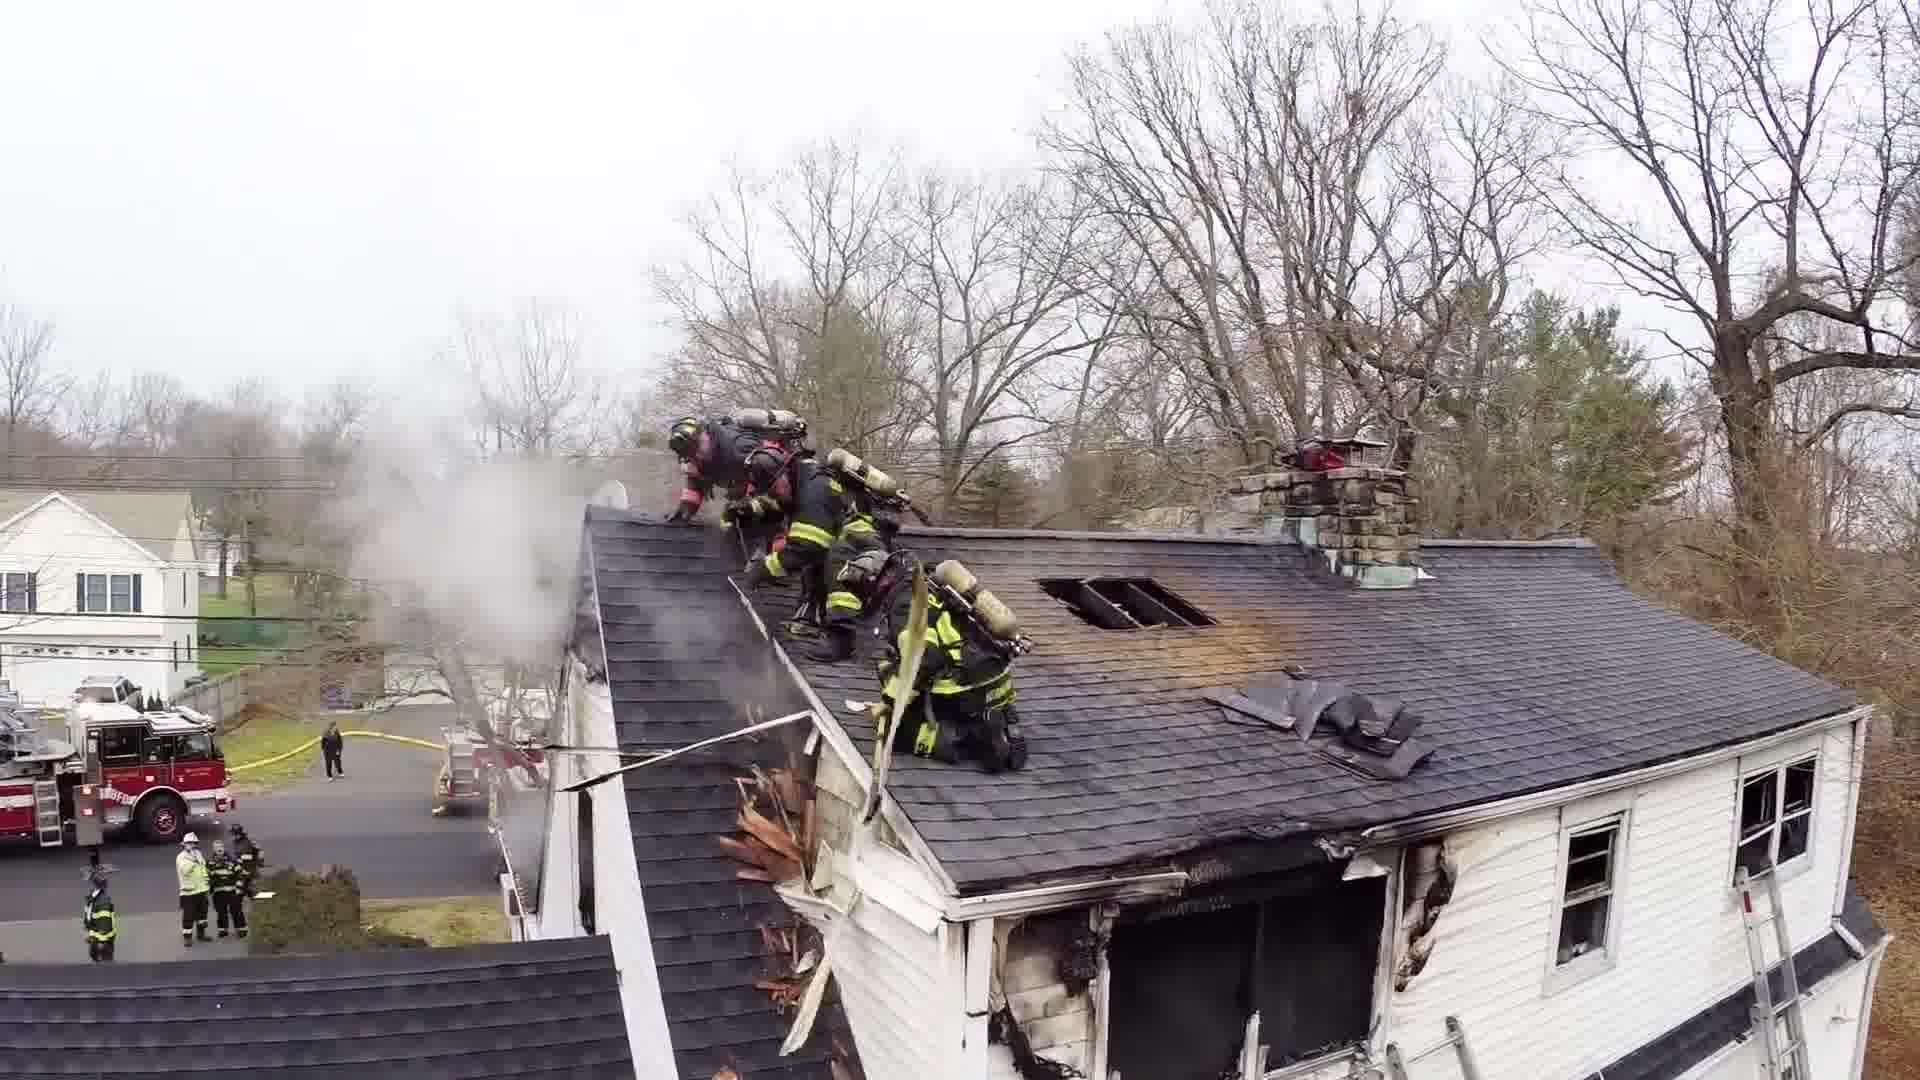smoke: (405, 447, 585, 665)
